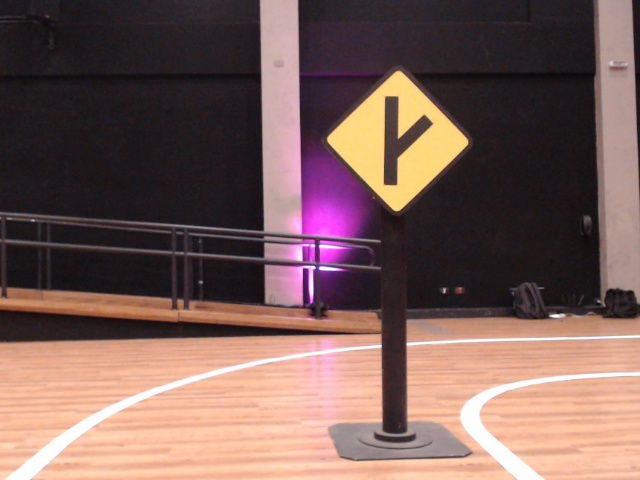PLACA_DESVIO: (304, 60, 487, 225)
